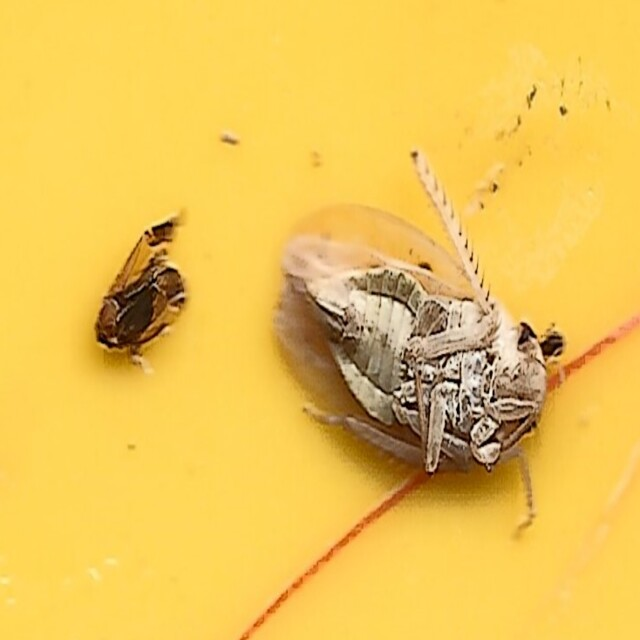Hemiptera: (269, 147, 553, 493), (87, 214, 188, 361)
